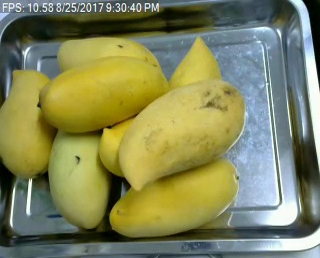Mango: (120, 78, 245, 189), (109, 160, 238, 235), (38, 57, 165, 132), (0, 69, 62, 176), (46, 125, 108, 228), (55, 37, 163, 94), (167, 38, 224, 97), (98, 128, 145, 174)
